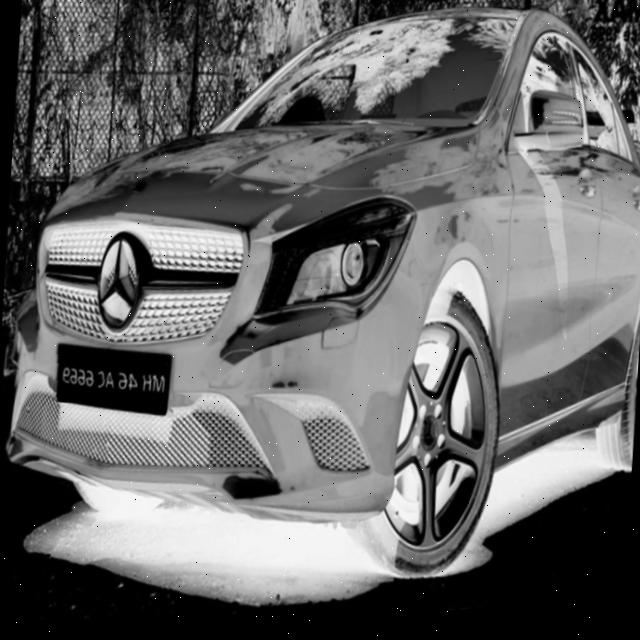Non_registered: (48, 347, 167, 411)
